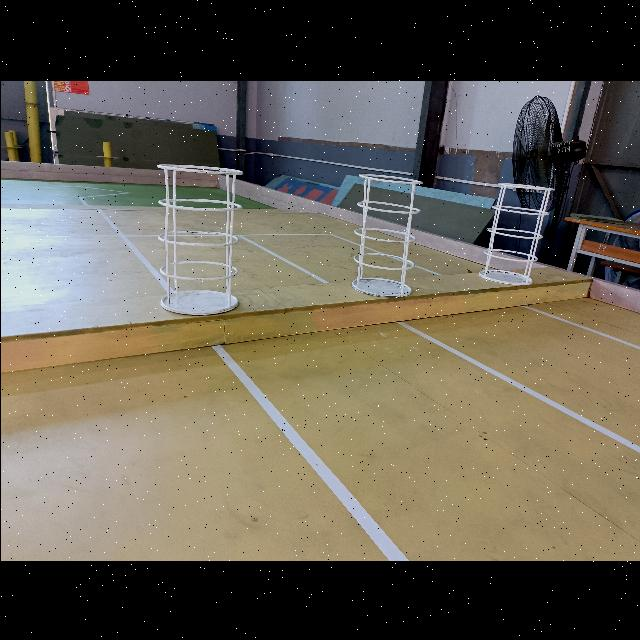S: (154, 160, 245, 316), (347, 170, 422, 299), (476, 180, 556, 286)
